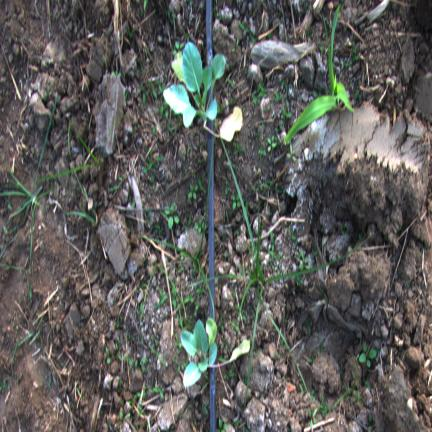crop: (163, 42, 225, 127)
